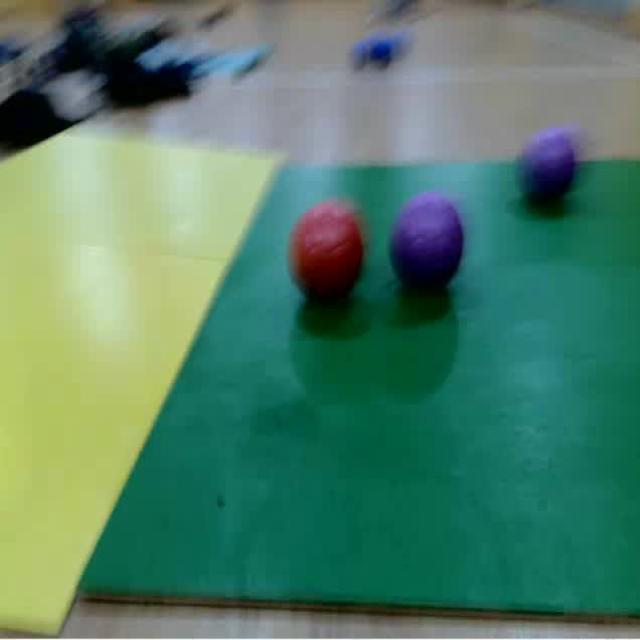purple_ball: (378, 190, 479, 322), (499, 117, 608, 234)
red_ball: (286, 186, 372, 323)
